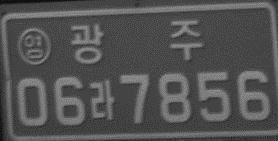0: (16, 77, 49, 127)
5: (196, 71, 232, 122)
6: (52, 75, 87, 126), (237, 69, 271, 121)
7: (119, 73, 150, 124)
8: (157, 73, 191, 123)
광주_D: (69, 20, 204, 64)
라: (88, 79, 116, 121)
영: (16, 26, 52, 67)
